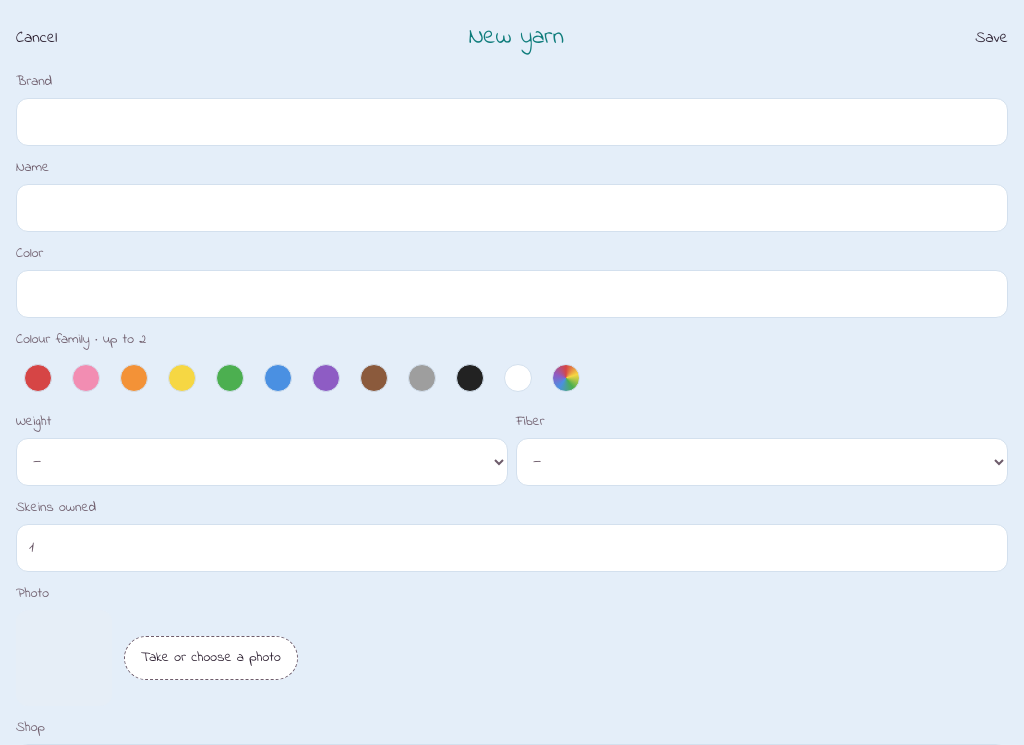
Scenario: picking a name does not overwrite a weight already chosen
Select "DK" in the dropdown labelled "Weight" at (262, 462), box [16,438,508,486]
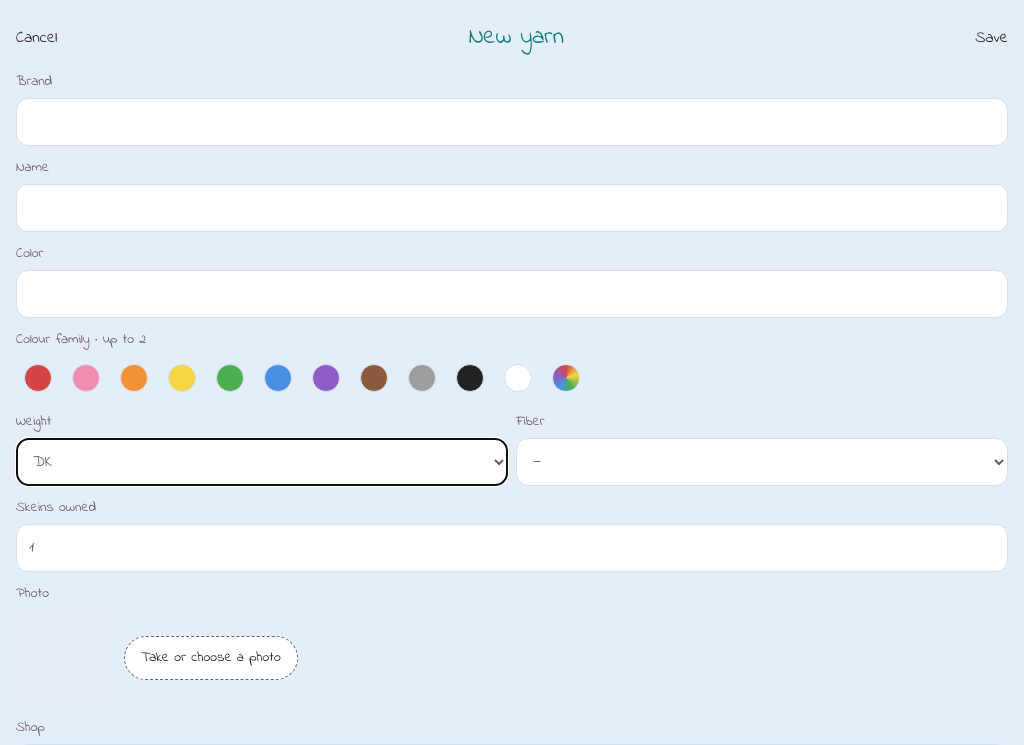
Click the field labelled "Name" at (512, 208), box [16,184,1008,232]
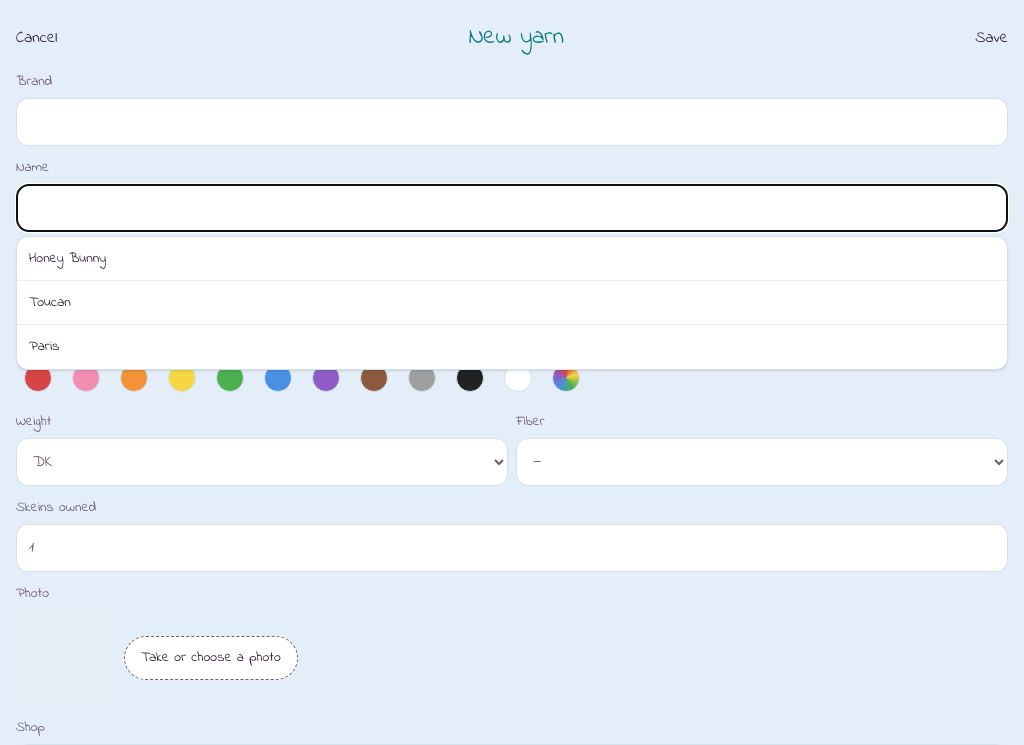
Click the option "Toucan" at (50, 302), box [17,281,1007,325]
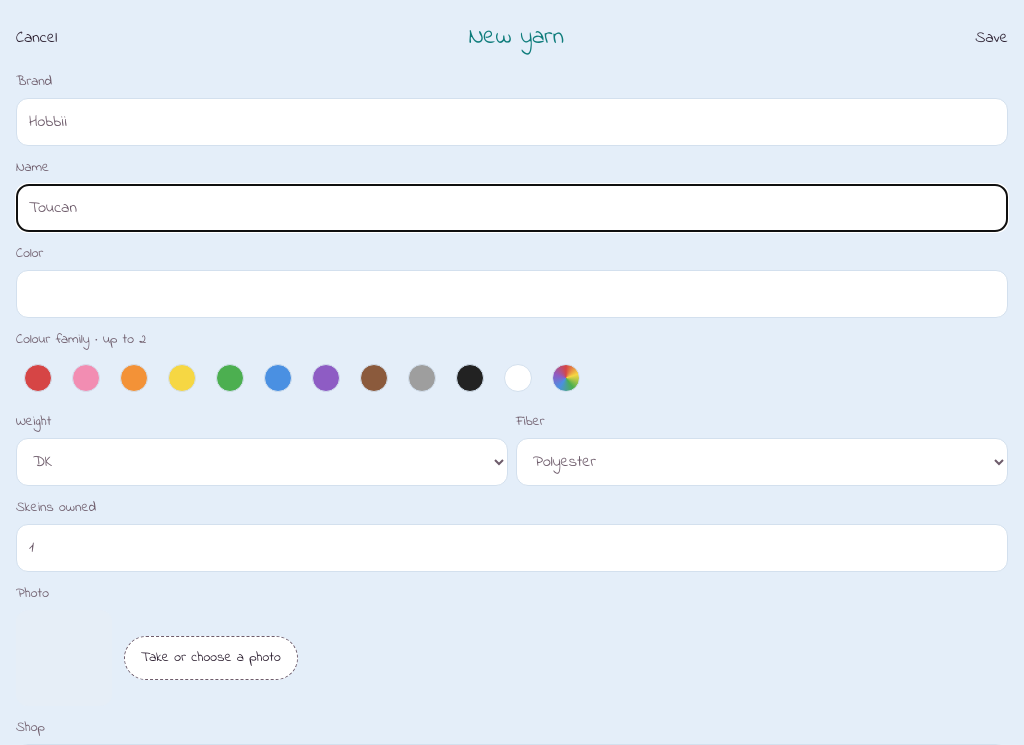
Result: the dropdown labelled "Fiber" shows "Polyester" at [516,438,1008,486]
